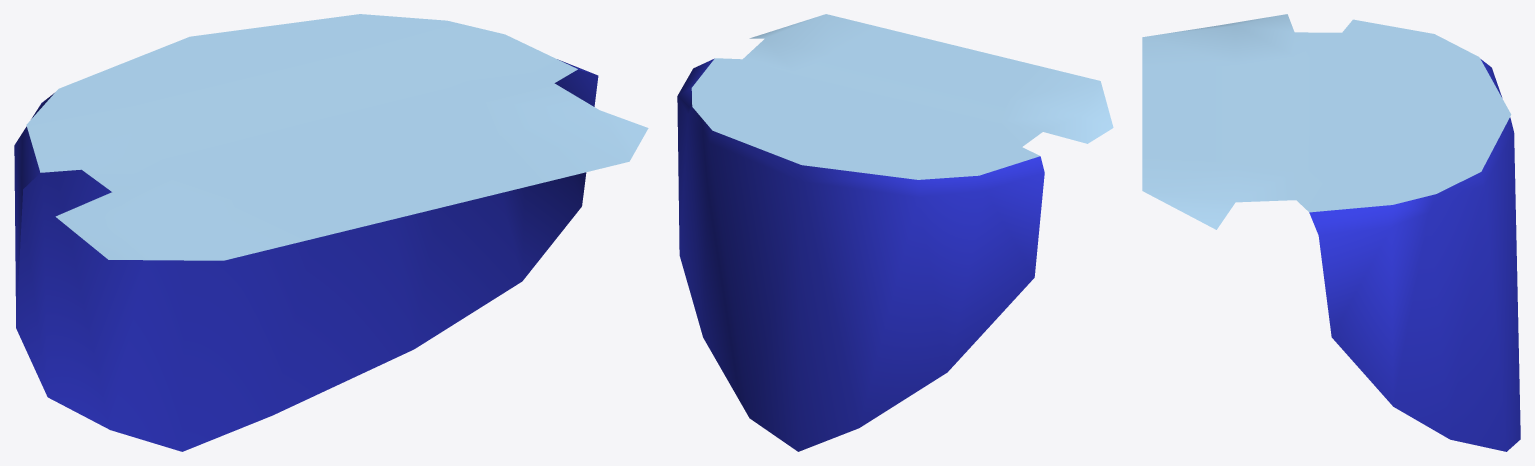
File: Ilha_Agua.fbx
The picture shows the model from 3 angles, left to right: view 1: azimuth 30°, elevation 25°; view 2: azimuth 150°, elevation 25°; view 3: azimuth 270°, elevation 25°; orthographic projection. The views are drawn at different scales.
Parts seen in each view (by area): view 1: Ilha_Agua; view 2: Ilha_Agua; view 3: Ilha_Agua.
Boxes of the visible parts, x1,y1,x2,y2 form: Ilha_Agua: (14,14,648,451); Ilha_Agua: (677,14,1113,451); Ilha_Agua: (1142,14,1520,451).
Bounding box in the file's own units: 184 × 131 × 138.
